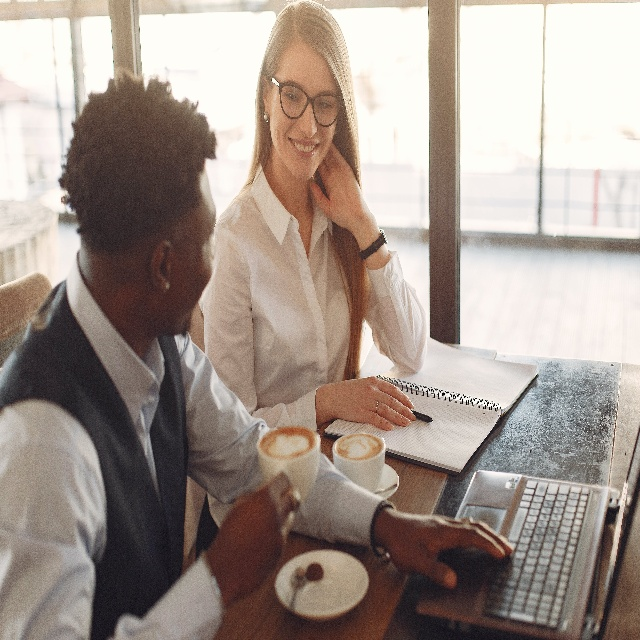Gafas: (269, 76, 344, 127)
Sin_guantes: (206, 470, 301, 594), (379, 507, 513, 591), (310, 144, 369, 233), (326, 375, 416, 431)
